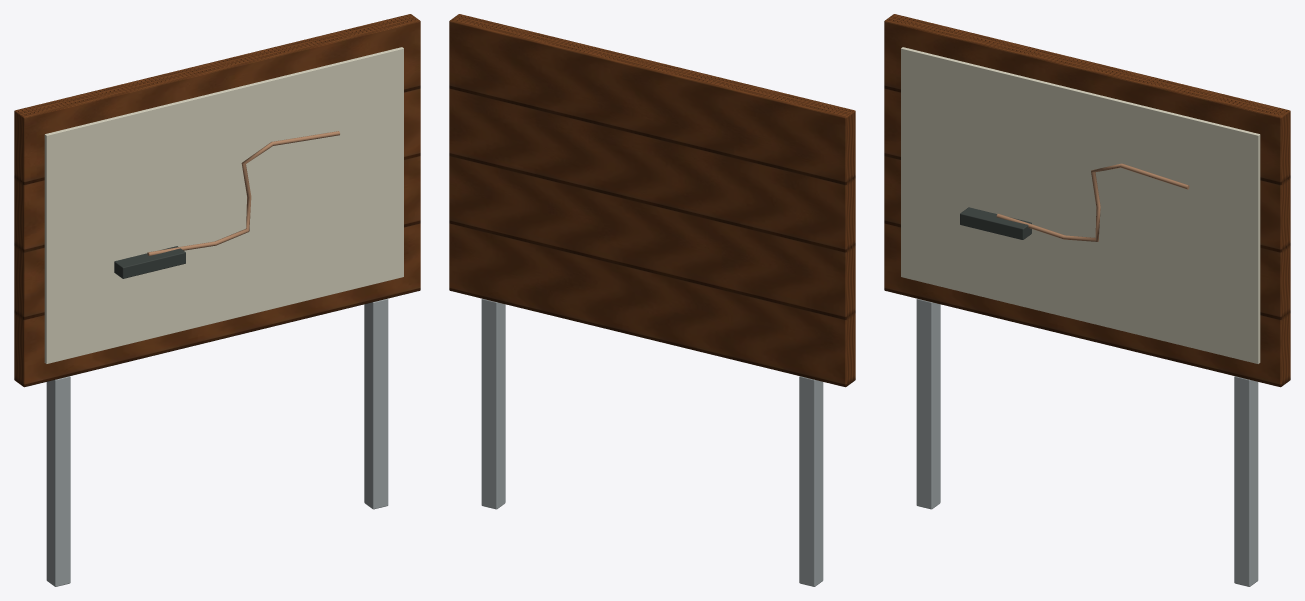
Rendered from research-and-crafting-progression-schematic-board-b6f698d4__2866.glb.
3 views of the same model, side by side, from view 1: azimuth 30°, elevation 25°; view 2: azimuth 150°, elevation 25°; view 3: azimuth 330°, elevation 25° (orthographic).
Parts seen in each view (by area): view 1: schematic-board; view 2: schematic-board; view 3: schematic-board.
Boxes of the visible parts, x1,y1,x2,y2 form: schematic-board: [14, 14, 420, 586]; schematic-board: [449, 14, 855, 586]; schematic-board: [884, 14, 1290, 586].
Bounding box in the file's own units: 1 × 1.15 × 0.095.
Materials: 5 (1 with a texture image).
